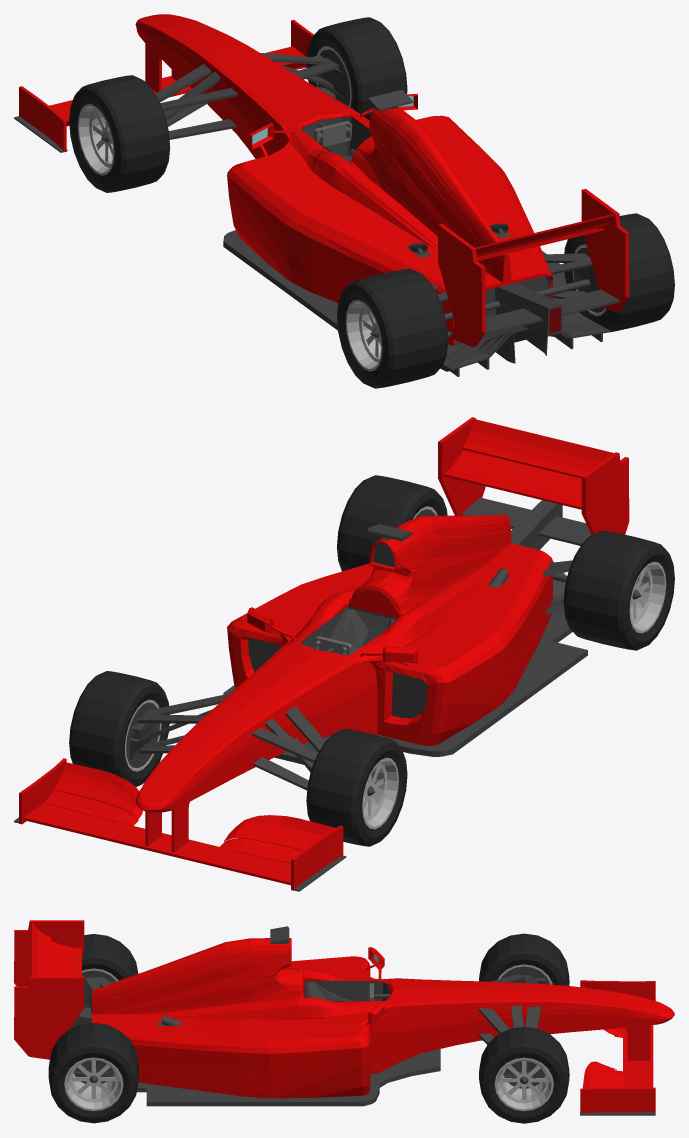
File: formula_car.glb
3 views of the same model, one above another, from view 1: azimuth 30°, elevation 25°; view 2: azimuth 150°, elevation 25°; view 3: azimuth 270°, elevation 25° (orthographic). The views are drawn at different scales.
Visible parts, largest first — view 1: New_Game_Object (×21), New_Game_Object_Clone_ (×3); view 2: New_Game_Object (×20), New_Game_Object_Clone_ (×2); view 3: New_Game_Object (×20), New_Game_Object_Clone_ (×4).
Part boxes in pixels (left/top/right/bottom): New_Game_Object (×21): left=19, top=14, right=629, bottom=388; New_Game_Object_Clone_ (×3): left=563, top=213, right=674, bottom=332; New_Game_Object (×20): left=19, top=417, right=674, bottom=890; New_Game_Object_Clone_ (×2): left=337, top=475, right=447, bottom=571; New_Game_Object (×20): left=14, top=920, right=674, bottom=1123; New_Game_Object_Clone_ (×4): left=48, top=1023, right=139, bottom=1123.
Bounding box in the file's own units: 1.9 × 1.07 × 4.67.
40 materials, 40 textured.
